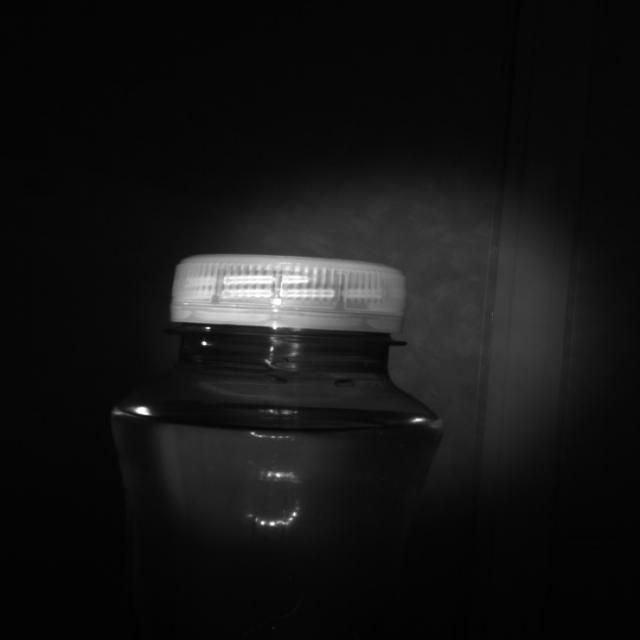Good: (168, 252, 410, 335)
